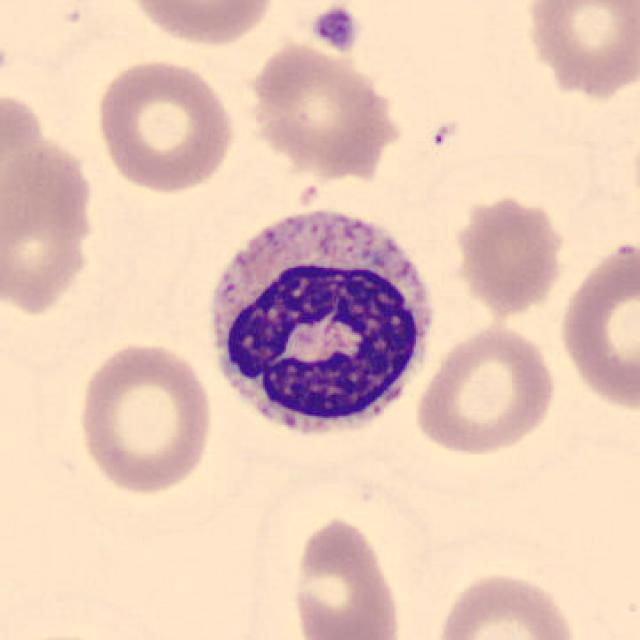Neutrophil: (196, 194, 444, 455)
Platelets: (309, 4, 361, 54)
RBC: (71, 337, 217, 499), (242, 39, 405, 180), (91, 53, 240, 196), (411, 321, 562, 458), (0, 125, 103, 323), (448, 189, 571, 319), (284, 513, 406, 640), (555, 236, 638, 418), (519, 0, 638, 102), (432, 567, 583, 640), (0, 87, 61, 249), (119, 0, 281, 49)
